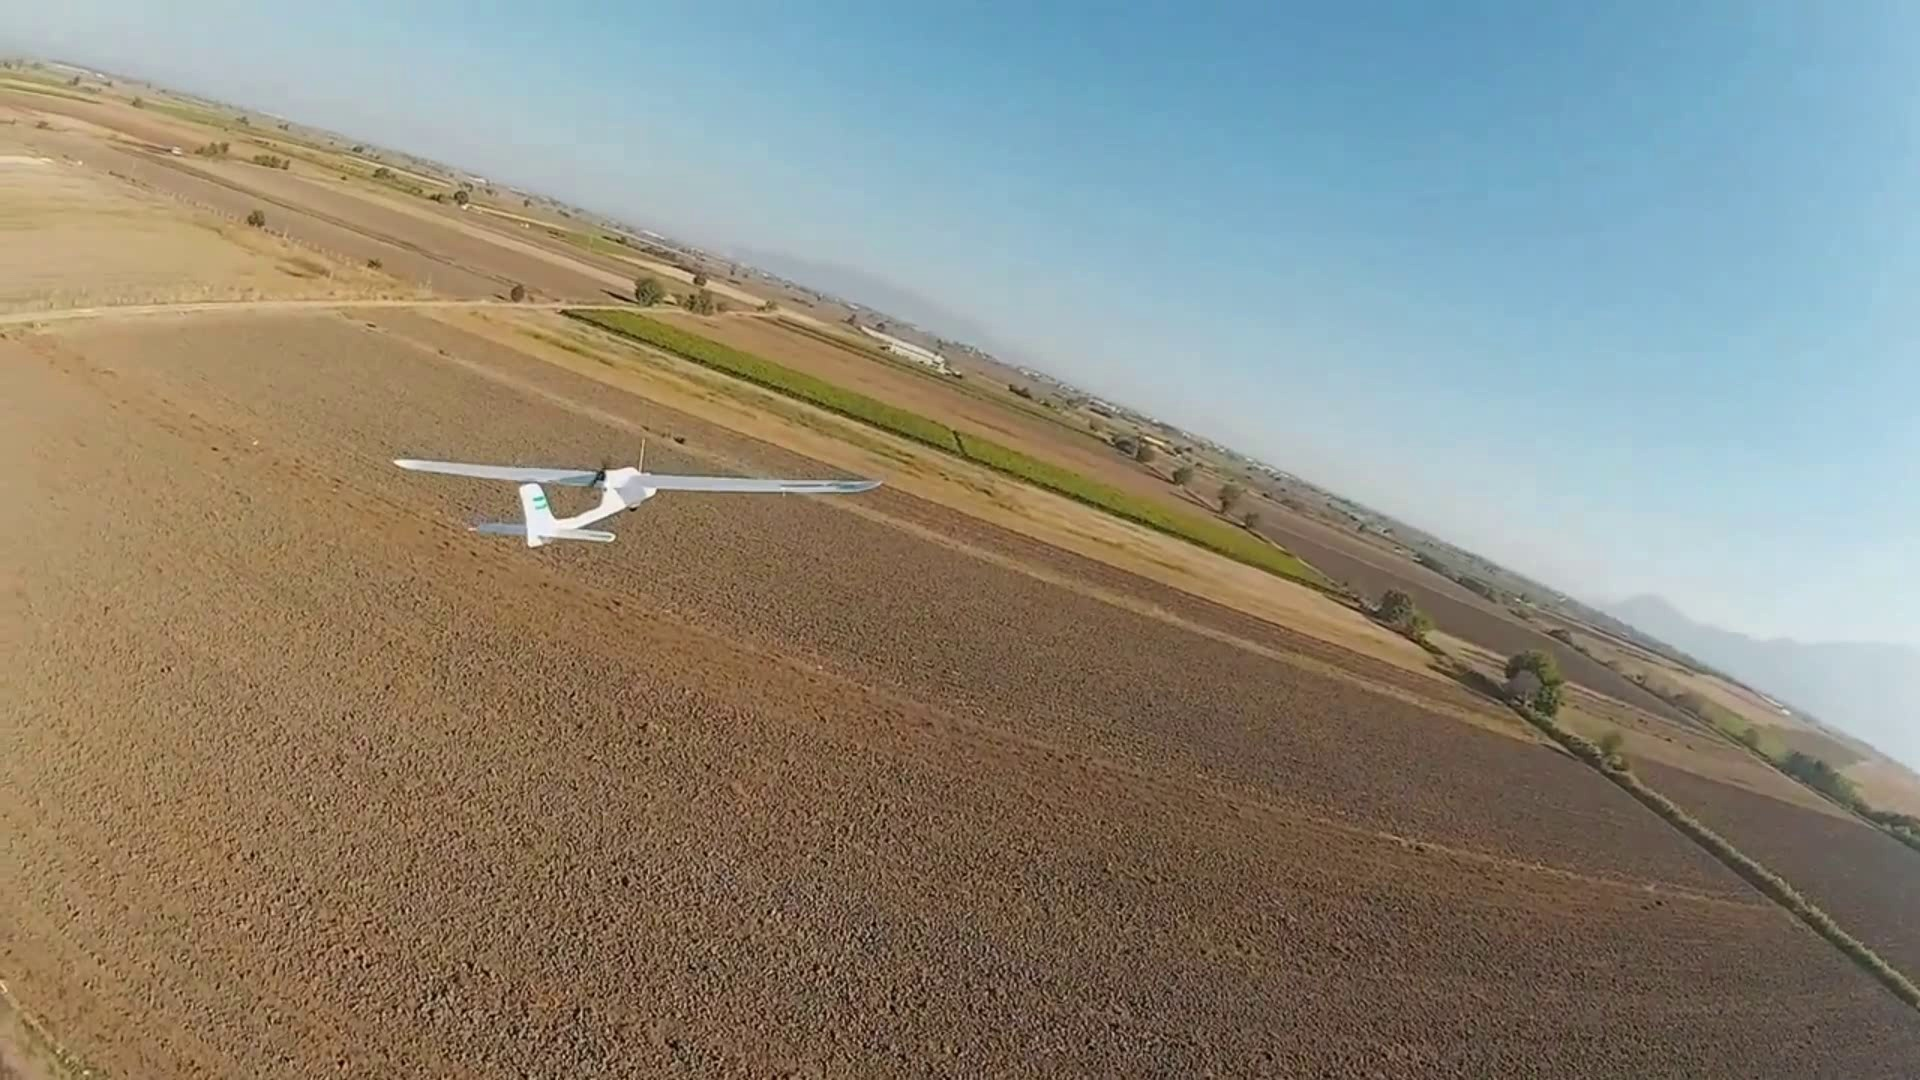airplane: (389, 448, 880, 547)
